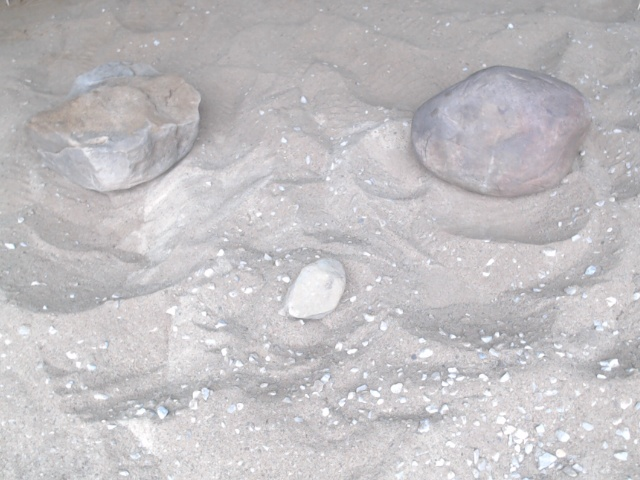rock: (404, 59, 596, 204), (18, 54, 209, 199), (278, 251, 350, 325)
